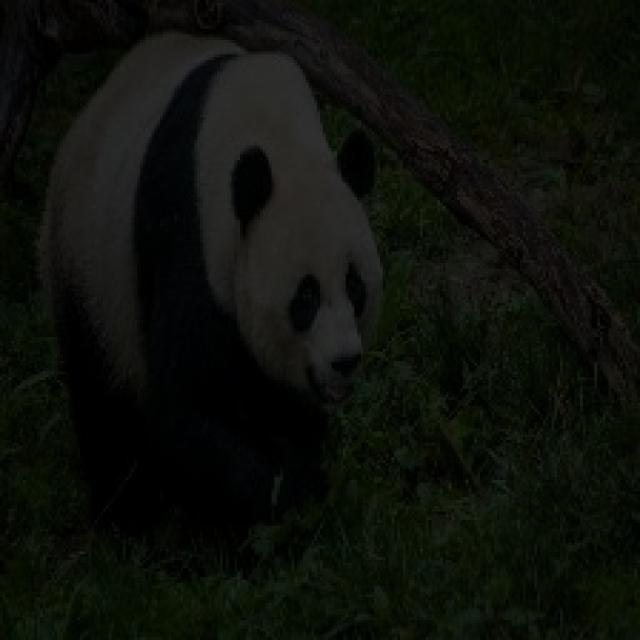bear: (45, 57, 446, 539)
